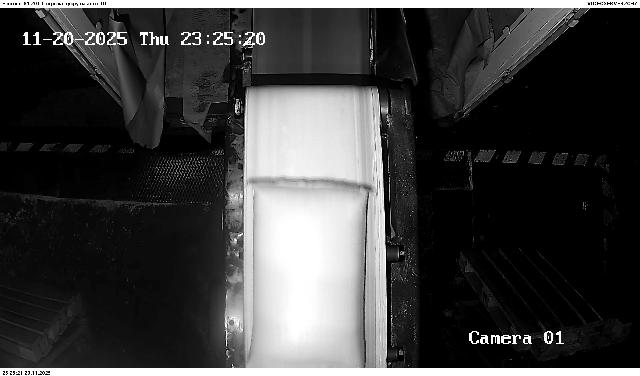bag: (247, 179, 377, 368)
